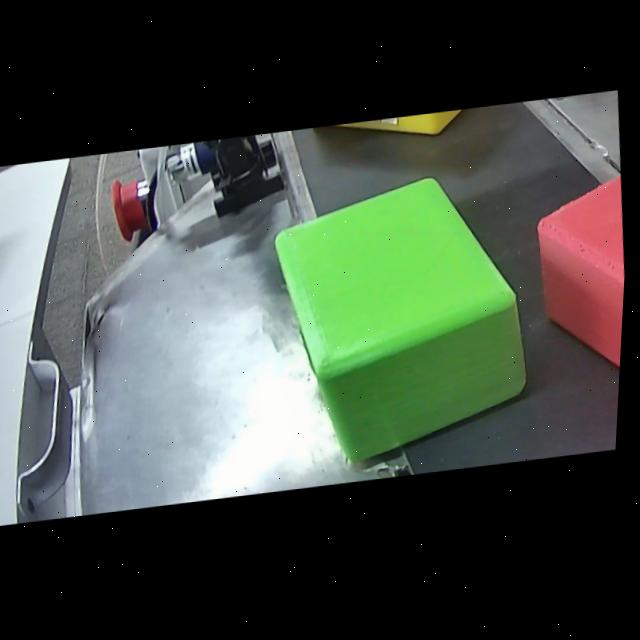greenBox: (259, 161, 554, 485)
redBox: (518, 151, 633, 455)
yellowBox: (298, 107, 515, 168)
